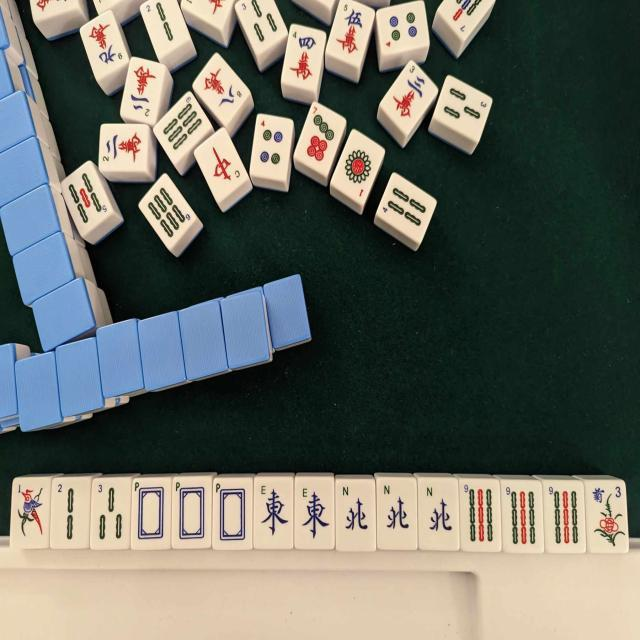bf3: (587, 483, 627, 553)
hdw: (172, 478, 211, 550), (214, 480, 252, 550), (132, 480, 170, 550)
hwe: (294, 478, 332, 548), (256, 477, 294, 547)
hwn: (374, 482, 414, 552), (420, 478, 460, 548), (337, 480, 375, 550)
sb1: (14, 480, 49, 540)
sb2: (53, 478, 89, 547)
sb3: (94, 478, 130, 547)
sb9: (462, 479, 502, 549), (500, 481, 540, 550), (546, 480, 585, 550)
